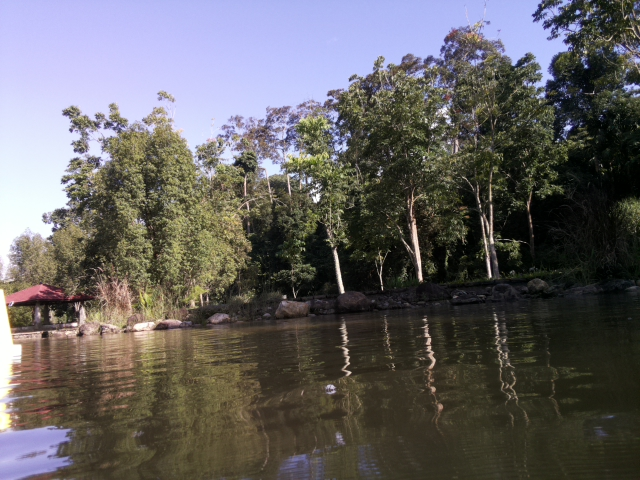checkpoint: (1, 287, 23, 360)
